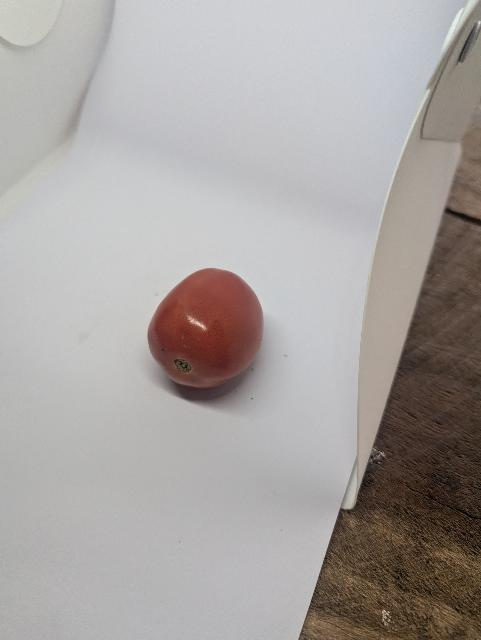red: (136, 261, 282, 409)
